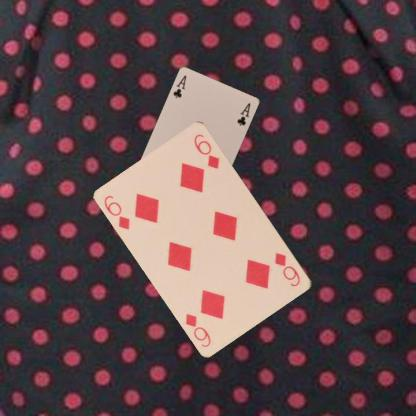6d: (272, 250, 302, 289), (102, 193, 132, 231)
Ac: (170, 73, 188, 100)
